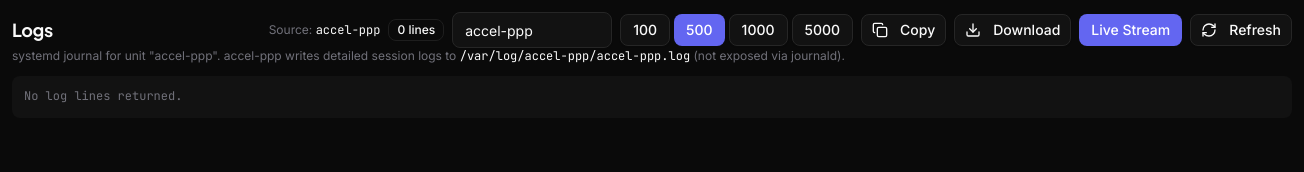
LogsPage › notes the journald limitation for the selected unit
Expected: the text "systemd journal for unit \"accel-ppp\"" is shown, 12,48 -> 460,63
The note tracks the selected unit.
Step 1. Replace the text in the field named "systemd unit" with "cron" → (532, 30), box 452,12 -> 612,48
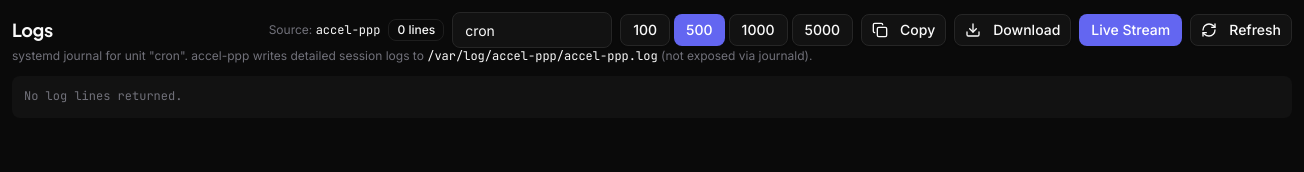
Result: the text "systemd journal for unit \"cron\"" is shown at 12,48 -> 427,63
